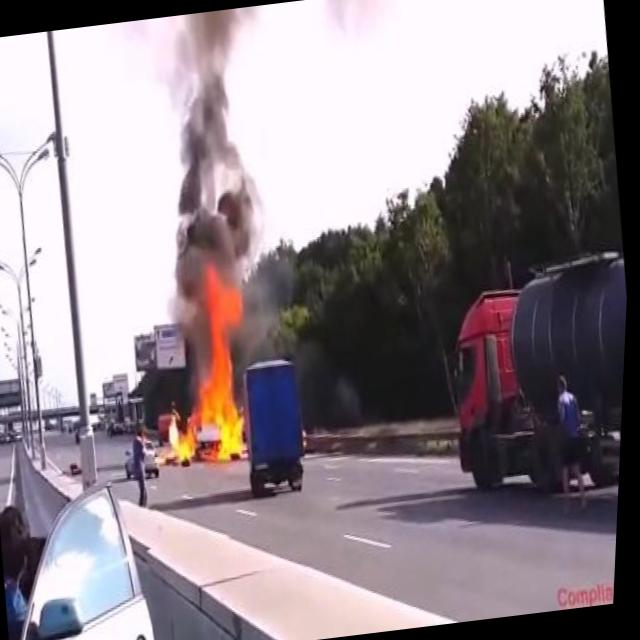fire: (147, 264, 270, 470)
